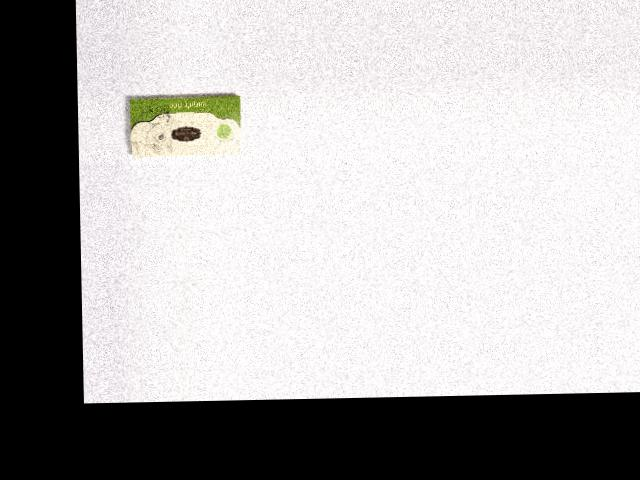chocolate: (128, 94, 242, 158)
